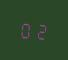two: (33, 19, 46, 40)
zero: (19, 18, 32, 39)
